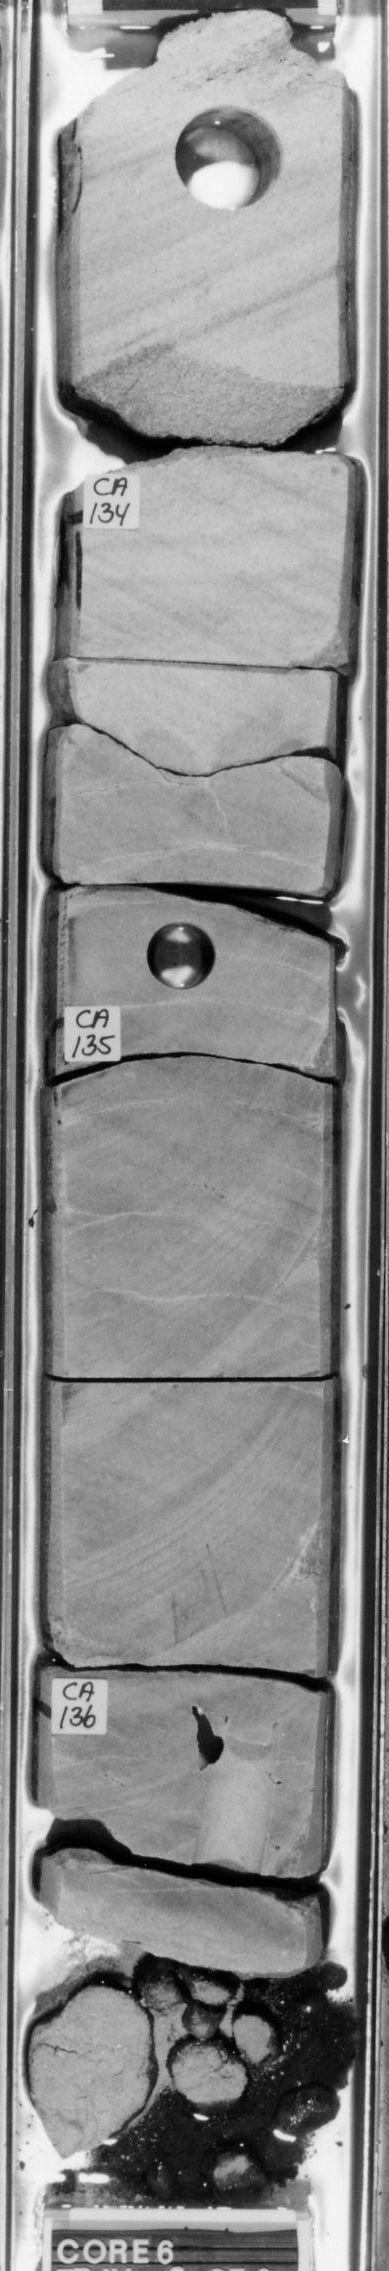hplug: (137, 915, 227, 1001), (178, 1699, 226, 1789)
scal: (162, 98, 291, 222)
vplug: (192, 1742, 299, 1881)
